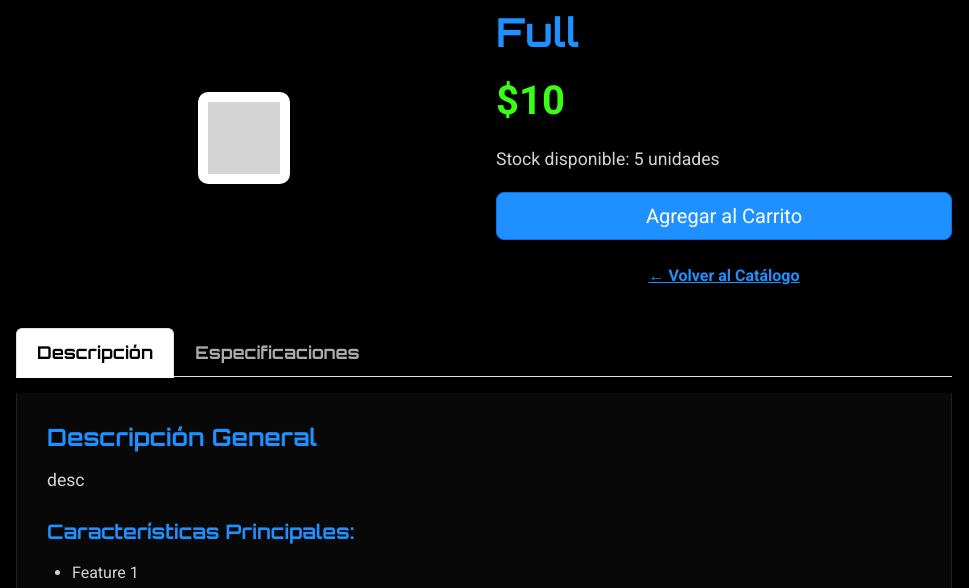
Test: ProductDetailPage › renderiza features y specs
Expected: the list item "Feature 1" is shown, [72,563,139,582]
Click the tab "Especificaciones": (277, 353) [174,328,380,377]
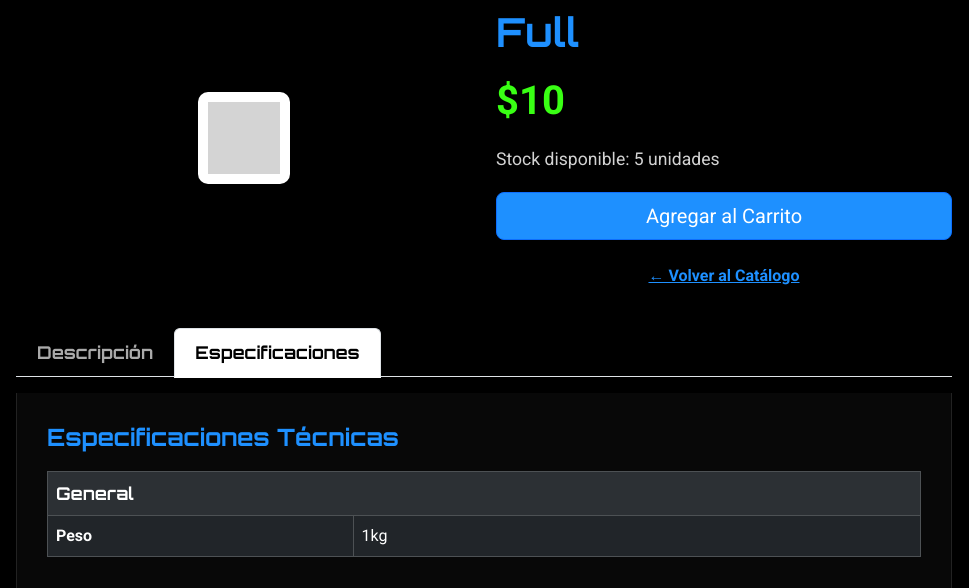
Expected: the text "General" is shown, [48,472,920,515]
Result: the text "Peso" is shown at [48,515,353,556]
